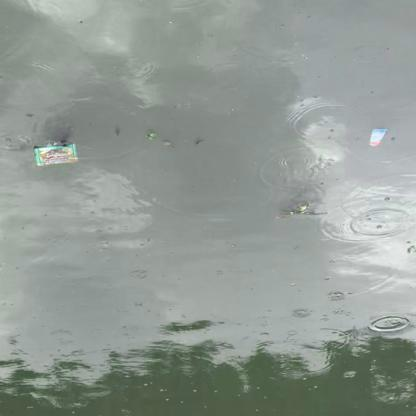Trash: (31, 140, 82, 167), (366, 124, 389, 152)
